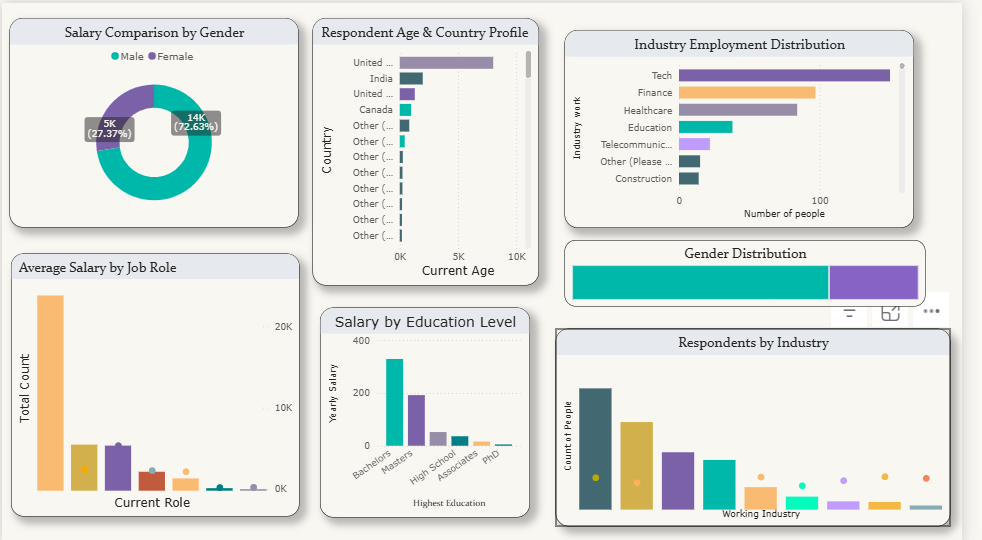

The dashboard page shown, as its layout file describes it:
{"tool":"powerbi","page":{"name":"Page 2","canvas":[1280,720],"ordinal":1},"visuals":[{"type":"clusteredBarChart","title":"Respondent Age & Country Profile","fields":{"Category":["Data Professional Survey (2).Q11 - Which Country do you live in?"],"Y":["Sum(Data Professional Survey (2).Q10 - Current Age)"]},"box":[413.2,20.8,301.9,356.6],"z":0},{"type":"clusteredColumnChart","title":"Salary by Education Level","fields":{"Category":["Data Professional Survey (2).Q12 - Highest Level of Education"],"Y":["CountNonNull(Data Professional Survey (2).Q3 - Current Yearly Salary (in USD))"]},"box":[424.5,405.7,280,280],"z":1000},{"type":"donutChart","title":"Salary Comparison by Gender","fields":{"Category":["Data Professional Survey (2).Q9 - Male/Female?"],"Series":["Data Professional Survey (2).Q9 - Male/Female?"],"Y":["Sum(Data Professional Survey (2).Q10 - Current Age)"]},"box":[10.4,20.8,385.4,279.2],"z":2000},{"type":"barChart","title":"Industry Employment Distribution","fields":{"Category":["Data Professional Survey (2).Q4 - What Industry do you work in?"],"Y":["CountNonNull(Data Professional Survey (2).Unique ID)"]},"box":[750.9,35.8,466,264.2],"z":3000},{"type":"lineStackedColumnComboChart","title":"Average Salary by Job Role","fields":{"Category":["Data Professional Survey.Q1 - Which Title Best Fits your Current Role?.1"],"Series":["Data Professional Survey.Q1 - Which Title Best Fits your Current Role?.1"],"Y":["CountNonNull(Data Professional Survey.Q9 - Male/Female?)"],"Y2":["Sum(Data Professional Survey.Average Salary)"]},"box":[11.3,334,384.9,350.9],"z":4000},{"type":"lineStackedColumnComboChart","title":"Respondents by Industry","fields":{"Category":["Data Professional Survey.Q4 - What Industry do you work in?.1"],"Series":["Data Professional Survey.Q4 - What Industry do you work in?.1"],"Y":["CountNonNull(Data Professional Survey.Q9 - Male/Female?)"],"Y2":["Avg(Data Professional Survey.Average Salary)"]},"box":[737.7,434,526.4,264.2],"z":5000},{"type":"treemap","title":"Gender Distribution","fields":{"Group":["Data Professional Survey.Q9 - Male/Female?"],"Values":["CountNonNull(Data Professional Survey.Q9 - Male/Female?)"]},"box":[750.9,317,481.1,88.7],"z":6000}]}

Visuals, with their boxes in screenshot pixels (x1, y1, x2, y2), scaled from the page's 1280x720 canvas onto the 982x540 screenshot:
"Respondent Age & Country Profile" clusteredBarChart: crop(317, 16, 549, 283)
"Salary by Education Level" clusteredColumnChart: crop(326, 304, 540, 514)
"Salary Comparison by Gender" donutChart: crop(8, 16, 304, 225)
"Industry Employment Distribution" barChart: crop(576, 27, 934, 225)
"Average Salary by Job Role" lineStackedColumnComboChart: crop(9, 250, 304, 514)
"Respondents by Industry" lineStackedColumnComboChart: crop(566, 326, 970, 524)
"Gender Distribution" treemap: crop(576, 238, 945, 304)
